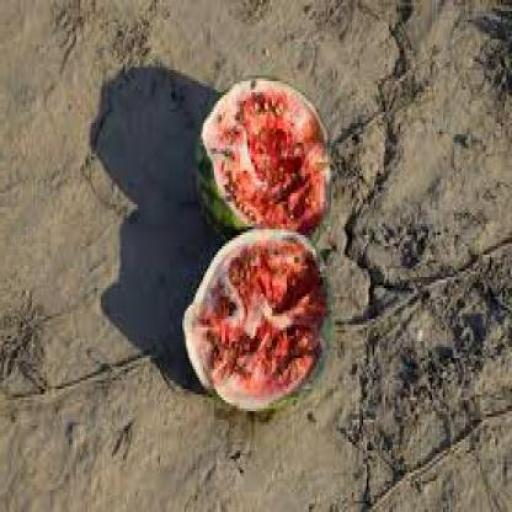biodegradable: (184, 221, 334, 417), (197, 72, 333, 238)
